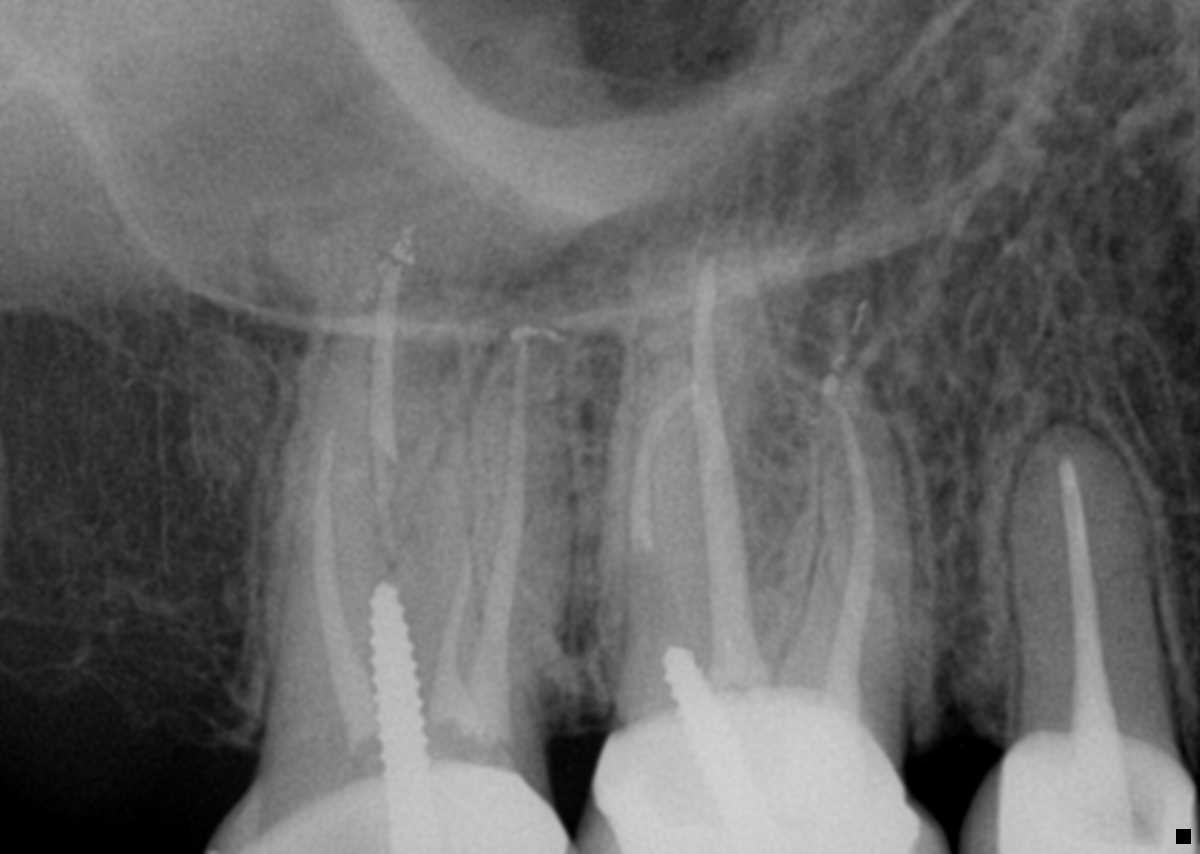Distal Root: (257, 355, 410, 790), (597, 339, 738, 723)
Main Root: (1007, 422, 1176, 740)
Mesial Root: (423, 297, 578, 784), (773, 391, 913, 741)
Palatal Root: (323, 183, 510, 765), (625, 188, 800, 708)
Root Canal Filling: (428, 341, 531, 748), (694, 258, 766, 683), (318, 421, 389, 751), (816, 401, 876, 714), (1059, 460, 1118, 728), (629, 385, 702, 562), (369, 234, 407, 567)
